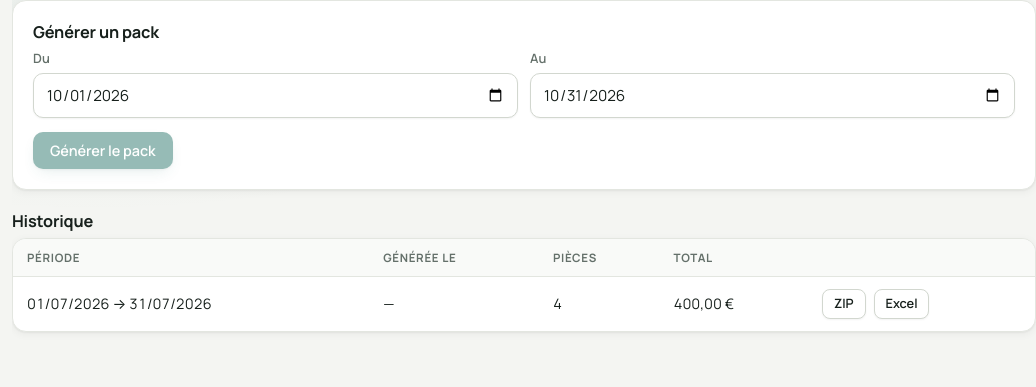
Test case: PacksTab — le téléchargement d’un pack › DIT pourquoi quand l’ouverture échoue, au lieu de ne rien faire
This screenshot has width=1036, height=387.
Click the button "ZIP" at [844, 304], box 822,289 -> 866,319
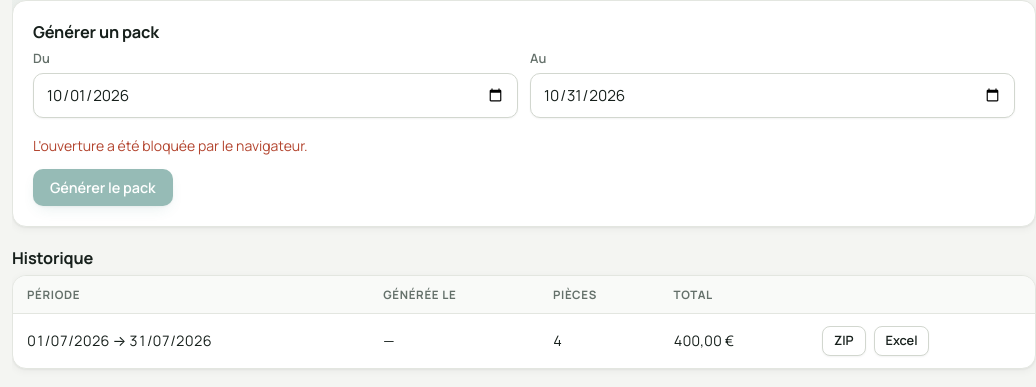
Now the text "L'ouverture a été bloquée par le navigateur." is shown, box 33,136 -> 308,155
